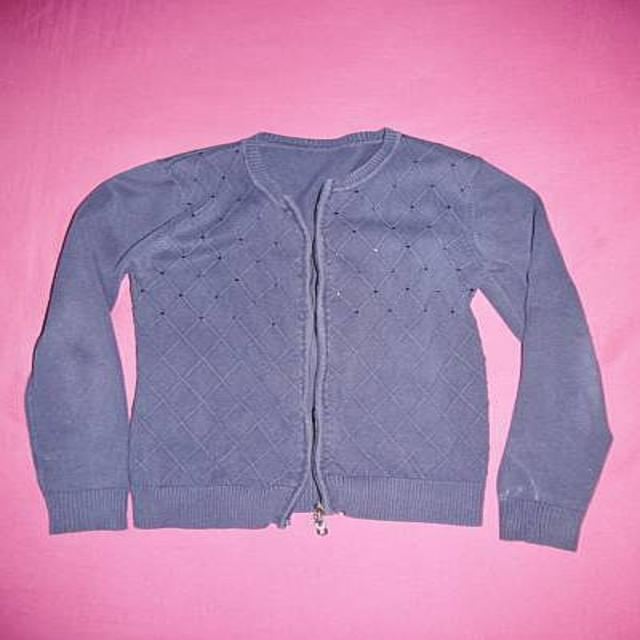SHIRT: (12, 119, 640, 550)
